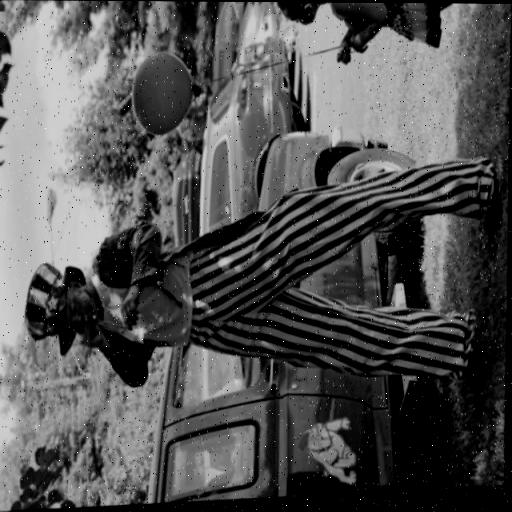balloon: (132, 40, 198, 141)
